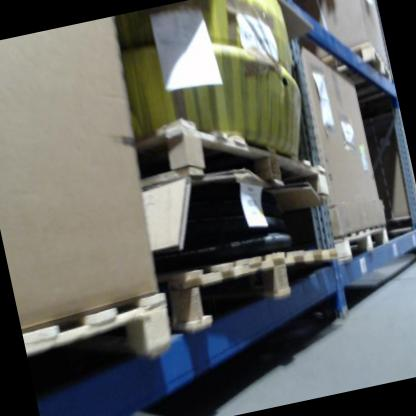pallet: (123, 91, 330, 235), (19, 286, 183, 402), (161, 240, 342, 337), (314, 33, 395, 108), (326, 220, 396, 267)
